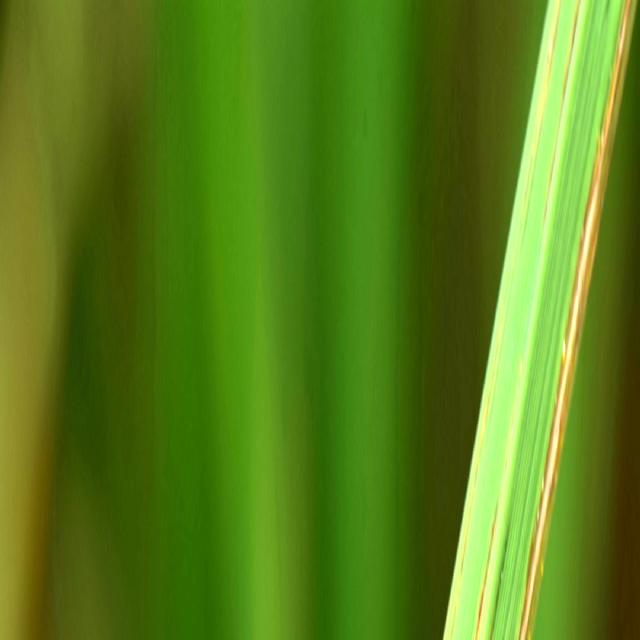BLS: (517, 0, 638, 640), (474, 346, 525, 640), (449, 352, 496, 640), (520, 0, 561, 256), (543, 0, 581, 224), (491, 479, 518, 640)
